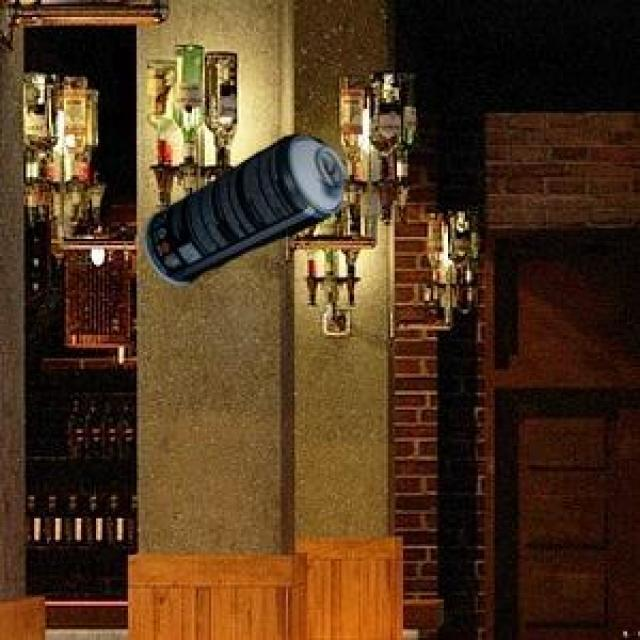Can: (140, 131, 342, 283)
